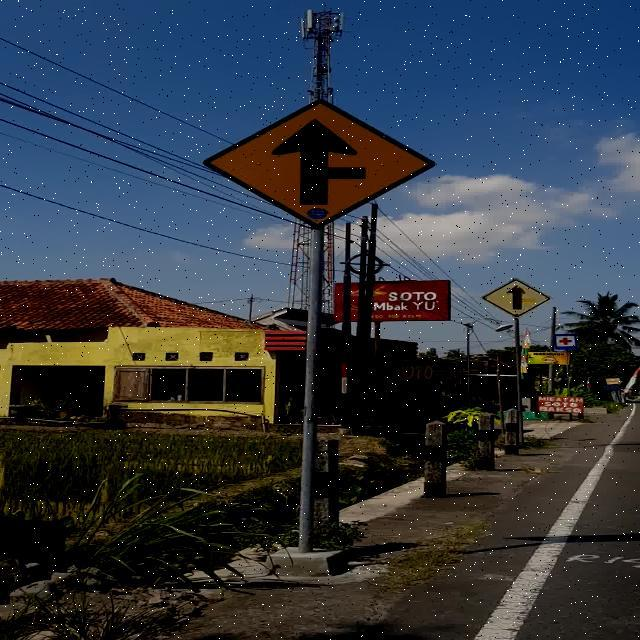Persimpangan 3 Prioritas Kanan: (203, 98, 436, 229)
